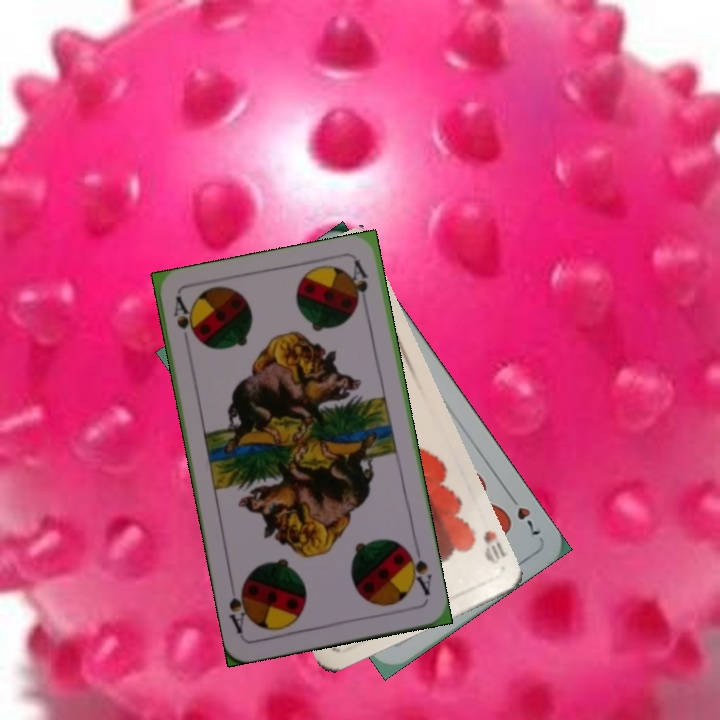H10: (479, 526, 508, 567)
H7: (504, 489, 544, 538)
SA: (402, 542, 435, 598), (169, 293, 199, 352)
